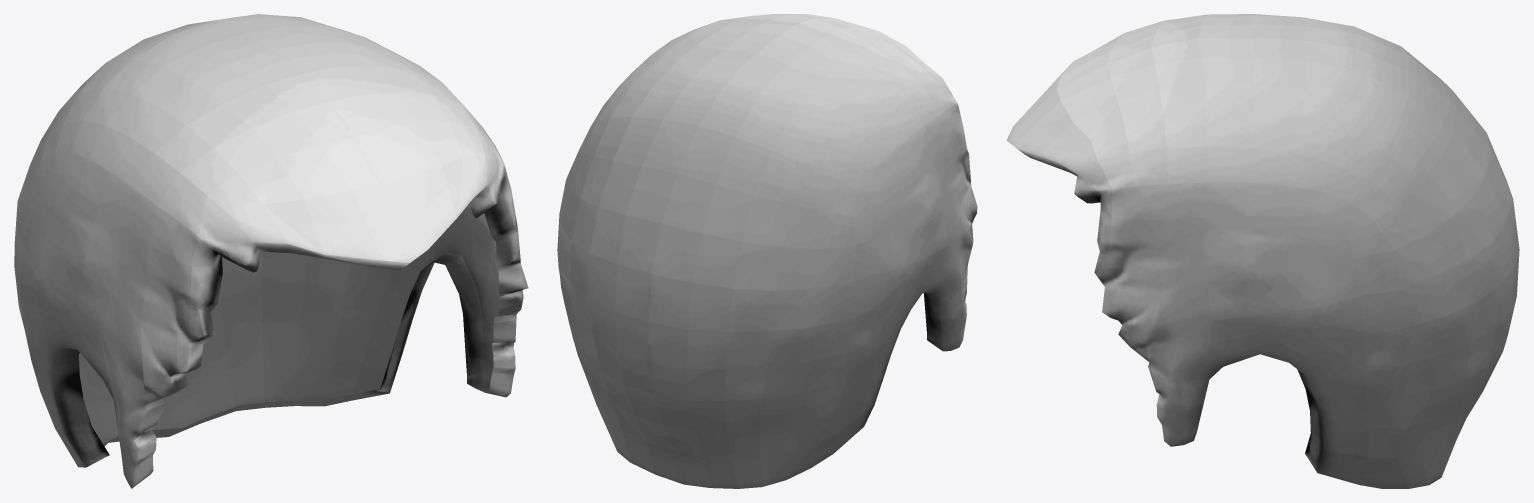
Rendered from hair-crop.glb.
3 renders of one model, left to right at view 1: azimuth 30°, elevation 25°; view 2: azimuth 150°, elevation 25°; view 3: azimuth 270°, elevation 25°, orthographic. The views are drawn at different scales.
Parts seen in each view (by area): view 1: hair-crop; view 2: hair-crop; view 3: hair-crop.
Part boxes in pixels (left/top/right/bottom): hair-crop: left=14, top=14, right=528, bottom=488; hair-crop: left=557, top=14, right=977, bottom=488; hair-crop: left=1006, top=14, right=1519, bottom=488.
Size of the model in its own units: 0.1546 by 0.1714 by 0.1897.
1 material, 1 textured.
